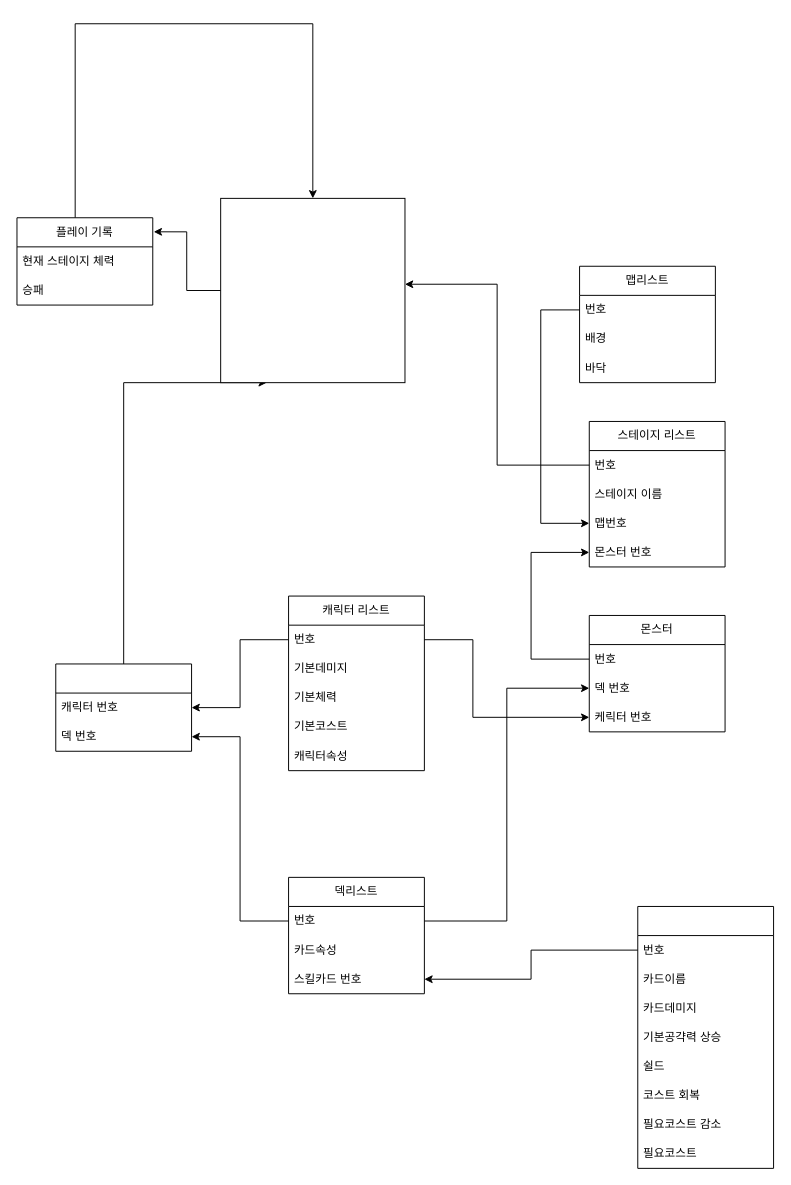
Image size: 791x1185. Some labels were removed from this diagram. Here are the shapes that lost their labels. From the top down, the box of each, then its label:
(220, 197, 405, 383): 자바스크립트 게임 플레이
(55, 663, 192, 751): 유저
(637, 905, 774, 1168): 스킬카드
